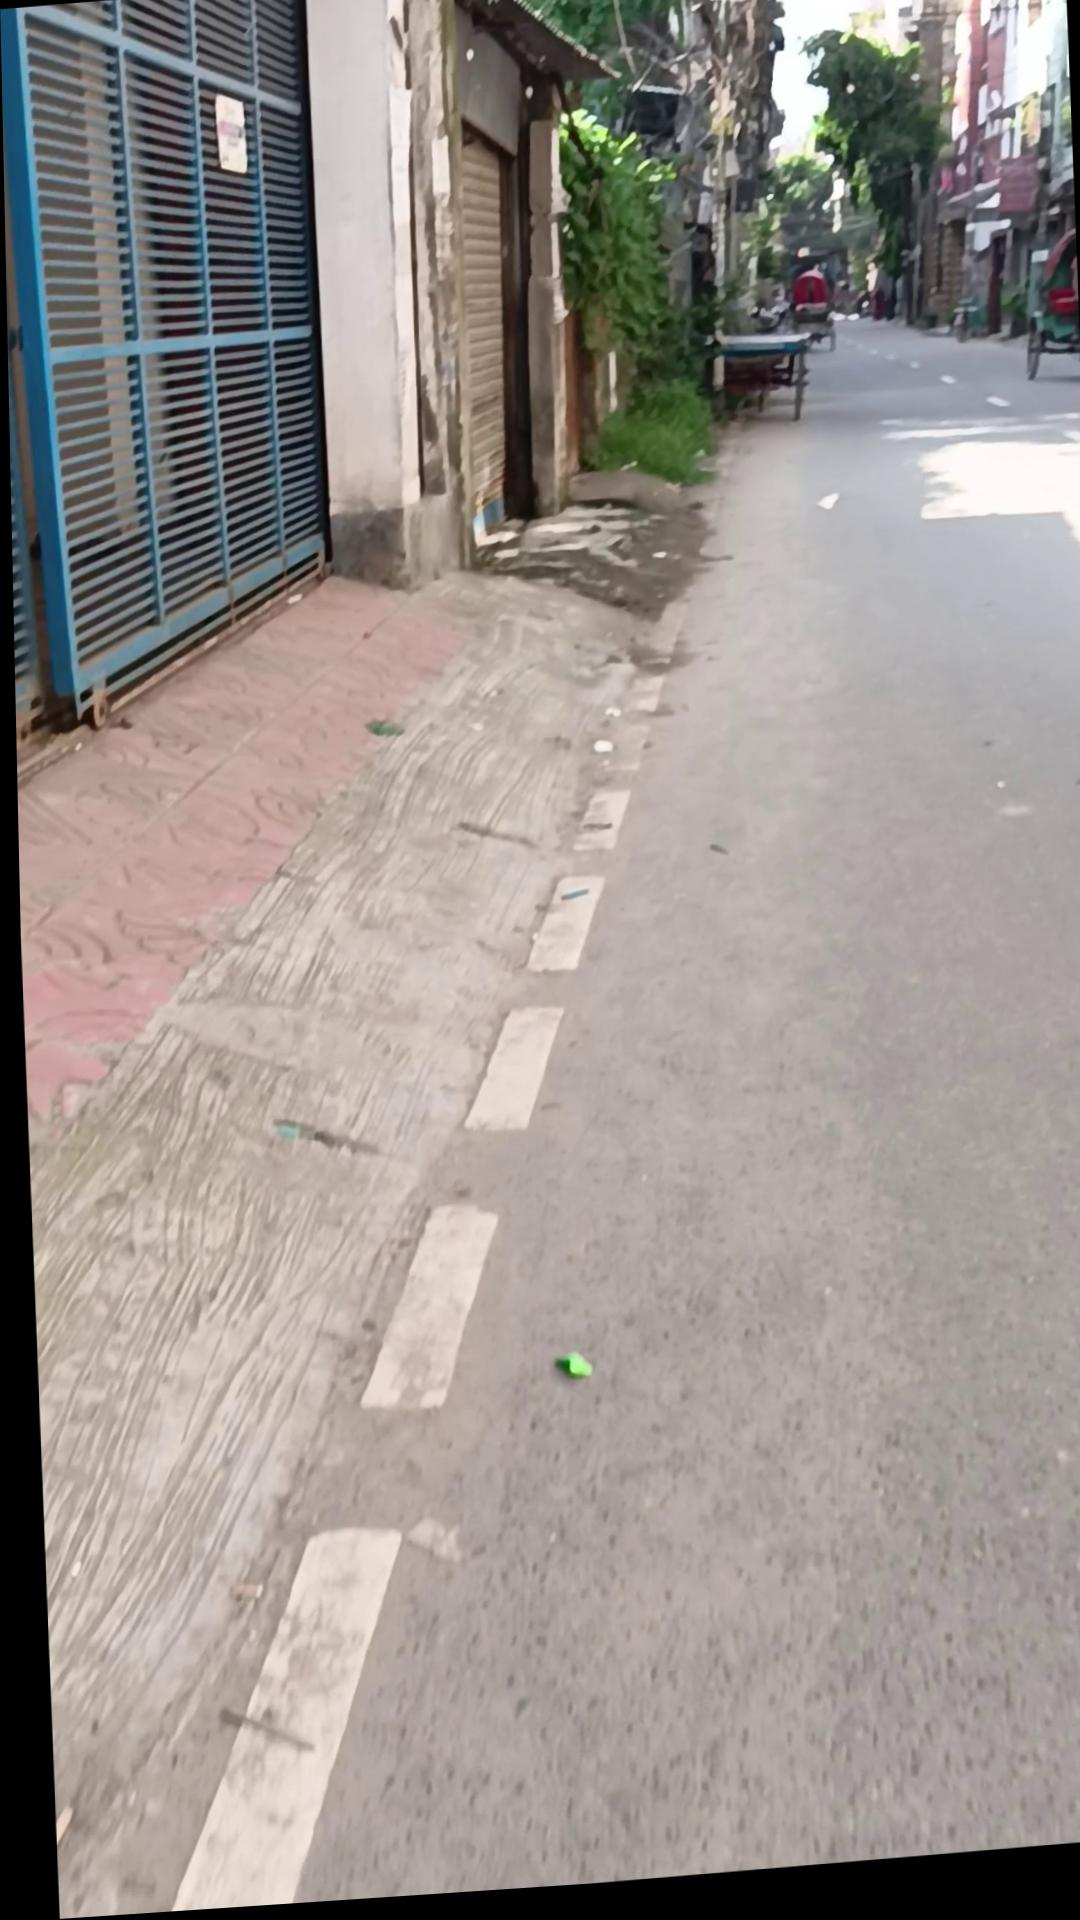Broken-road: (11, 550, 332, 789)
Fence: (1017, 241, 1079, 396), (789, 273, 832, 363)
Garbage: (11, 562, 489, 1139)
Light-pole: (796, 30, 952, 338)
Obstacle: (302, 0, 626, 603)
